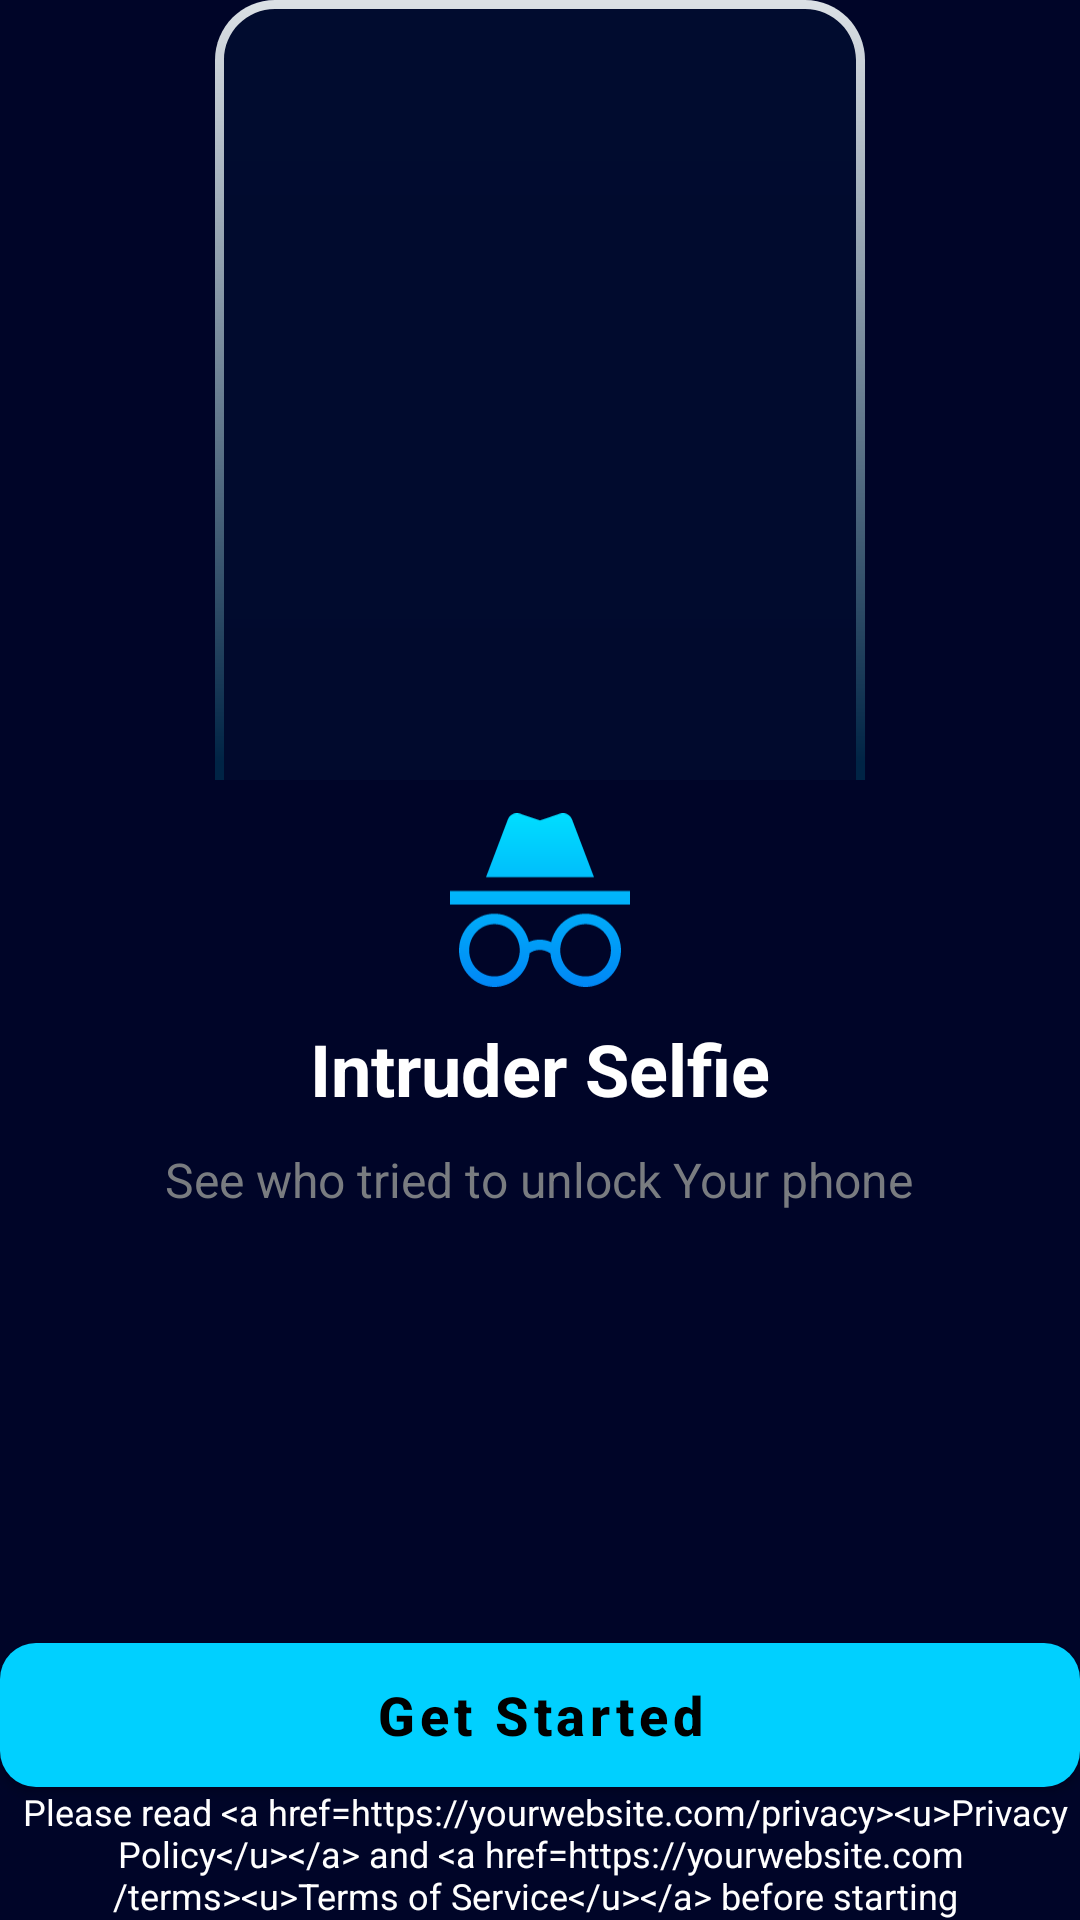

Locate icon controls on the screen. Image size 1080 × 1920, boxes as (x1, y1, x2, y2).
intrudericon: (450, 813, 630, 987)
